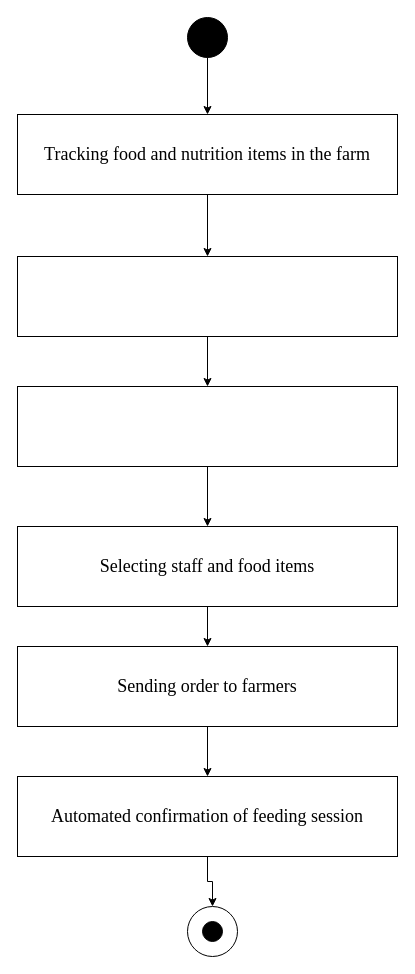
Image size: 415x974. Some labels were removed from this diagram. Here are the shapes that lost their labels. From the top down, the centre of each, then its label:
At pixel 207 296: "Automated notifying of meal time of animals".
At pixel 207 426: "Get options of food items for animals".
